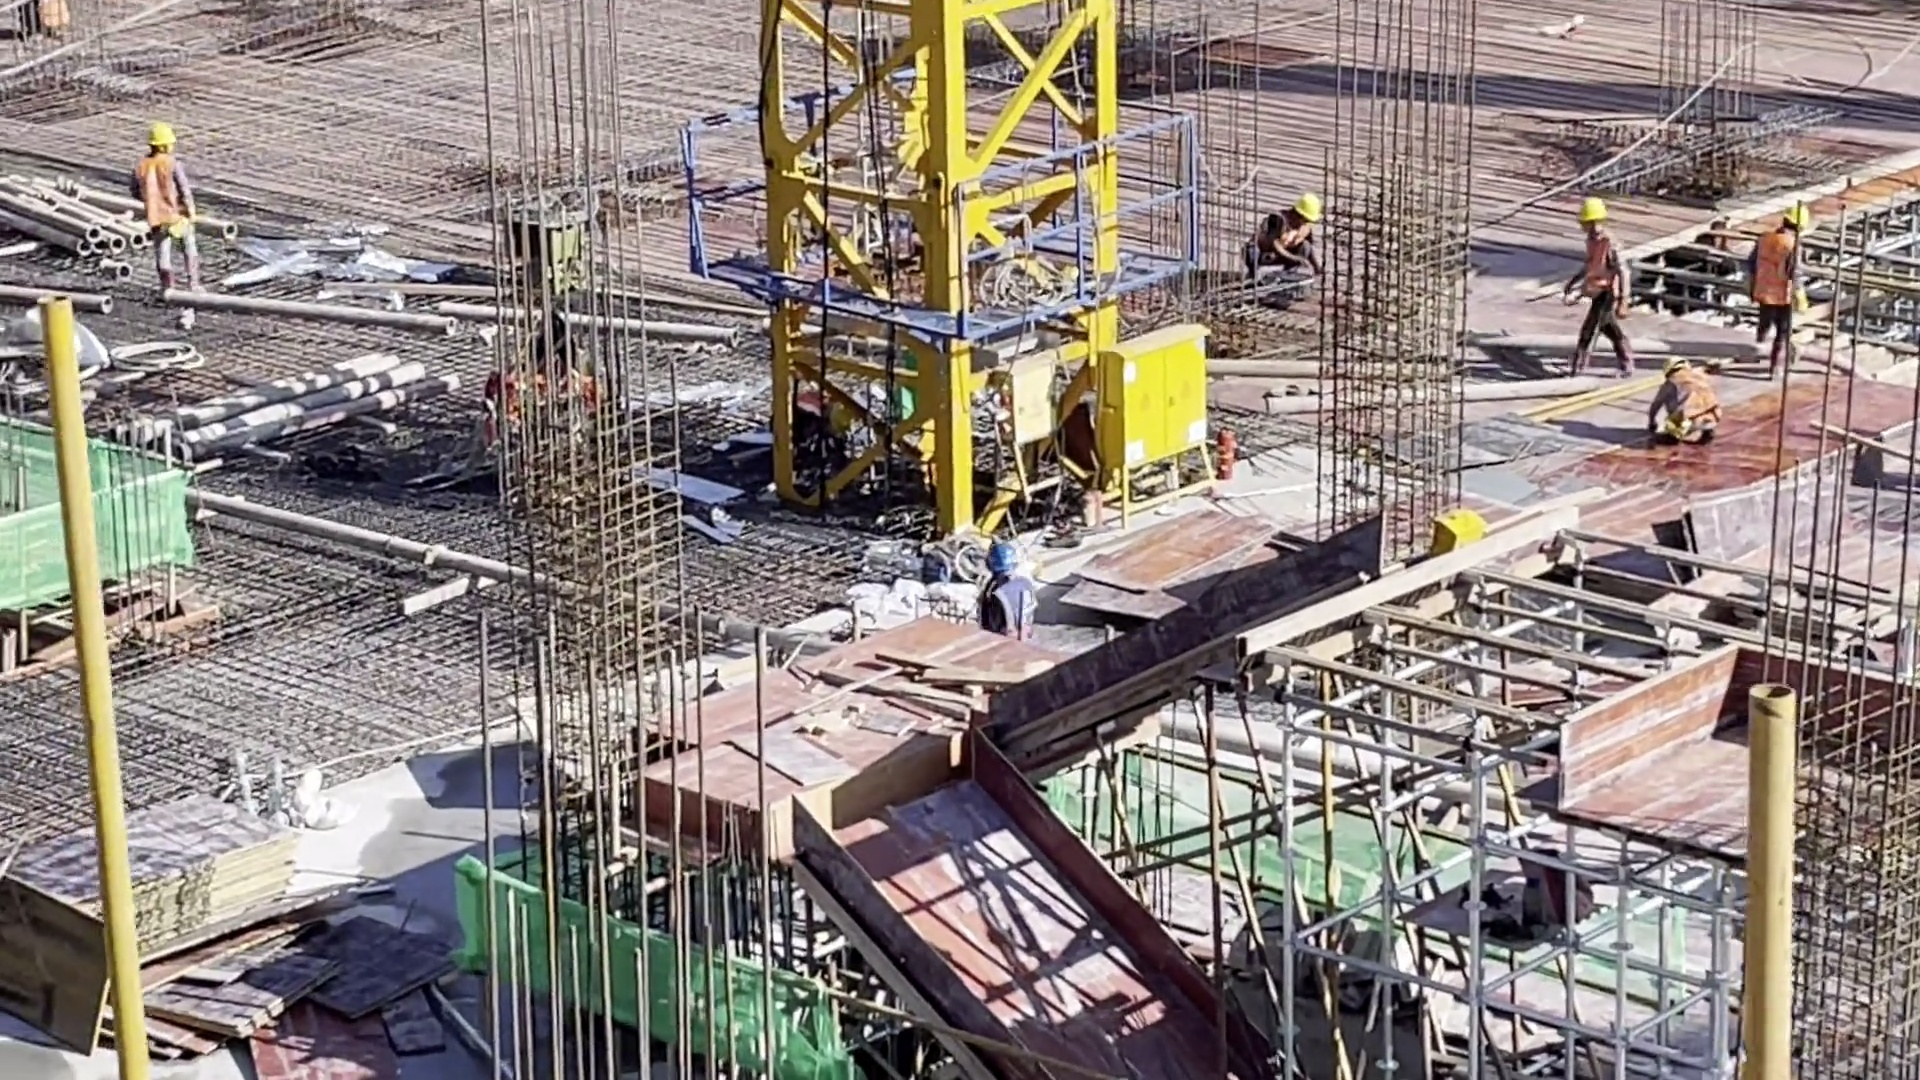board: (7, 784, 321, 988)
ebox: (1093, 319, 1225, 515), (996, 357, 1071, 504), (1424, 504, 1487, 562)
helmet: (983, 539, 1016, 576), (146, 122, 175, 158), (1293, 189, 1324, 220), (1573, 196, 1608, 224), (1779, 202, 1810, 226)
person: (1557, 189, 1642, 375), (1745, 201, 1817, 379), (132, 125, 200, 313), (1241, 189, 1329, 288), (968, 533, 1047, 638), (1644, 361, 1724, 449)
vest: (1746, 231, 1799, 323), (139, 156, 183, 238), (1245, 210, 1306, 266), (987, 581, 1043, 639), (1659, 369, 1713, 429), (1582, 238, 1623, 305)
